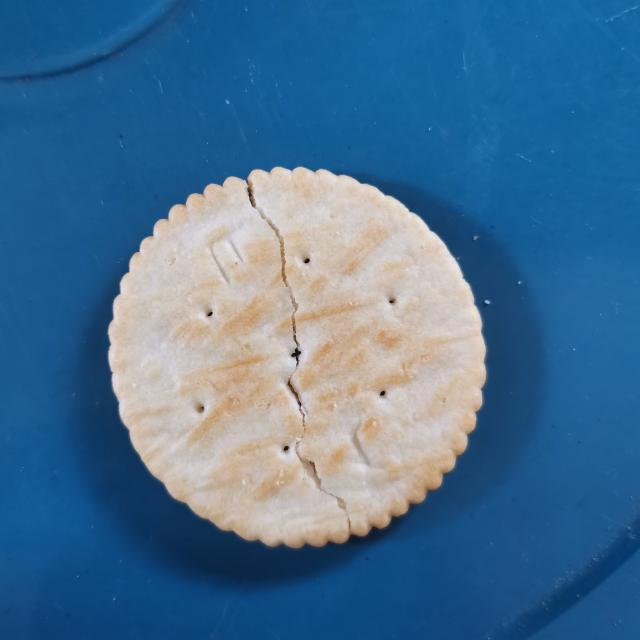Fracture: (222, 162, 377, 548)
